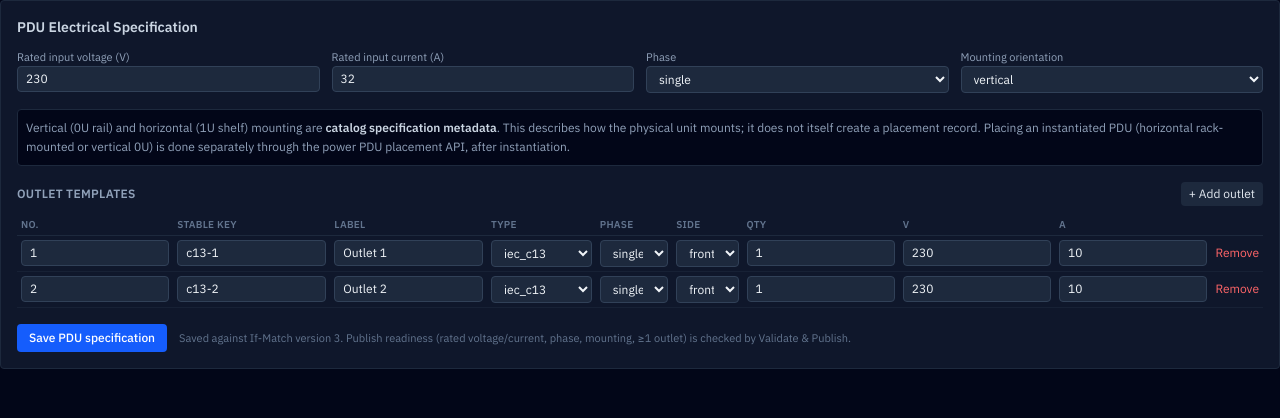
Test case: PduSpecPanel › blocks saving with the server's duplicate-outlet-number rule before any request
Replace the text in the number field named "Outlet 2 number" with "1" at (95, 289), box [21,276,169,302]
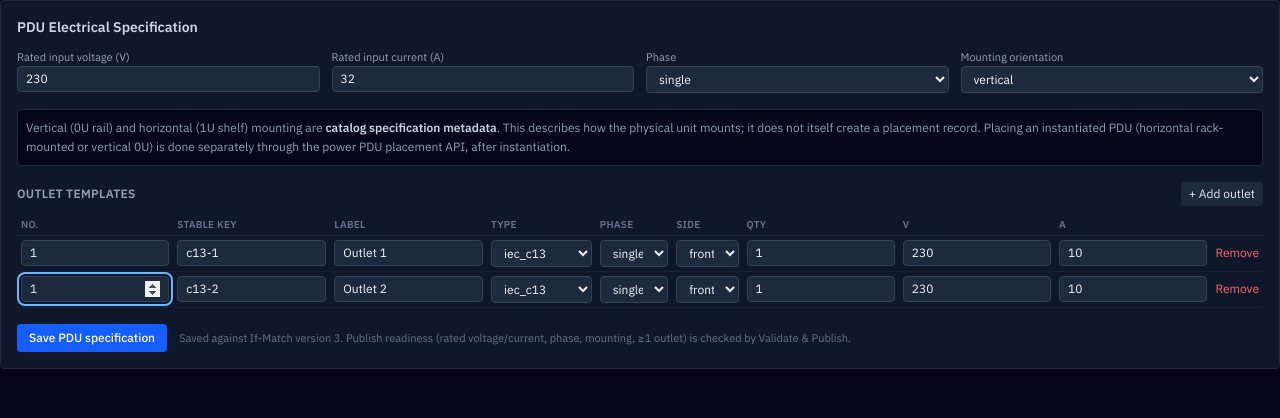
Click the button "Save PDU specification".
click(92, 338)  # box [17,324,167,352]
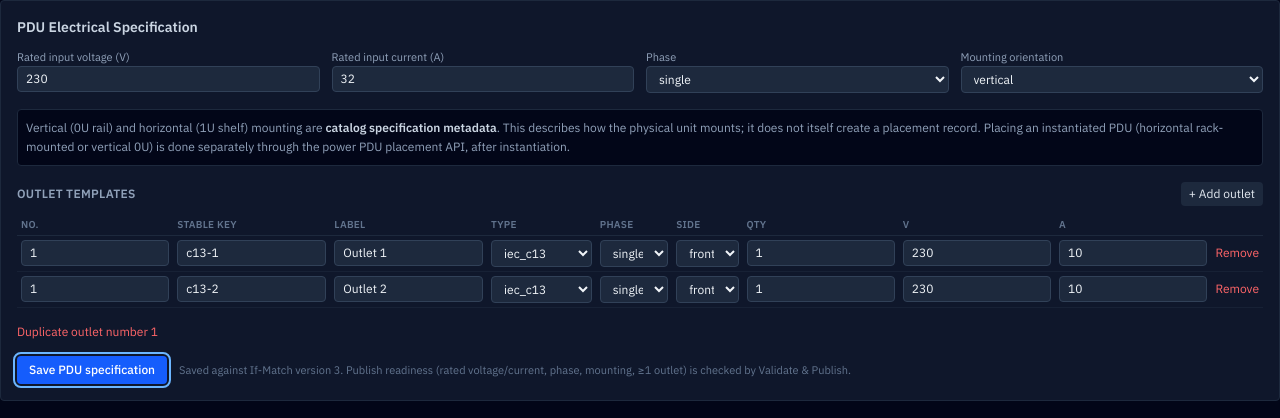
Check: the list item "Duplicate outlet number 1" is shown, box [17,324,158,339]
